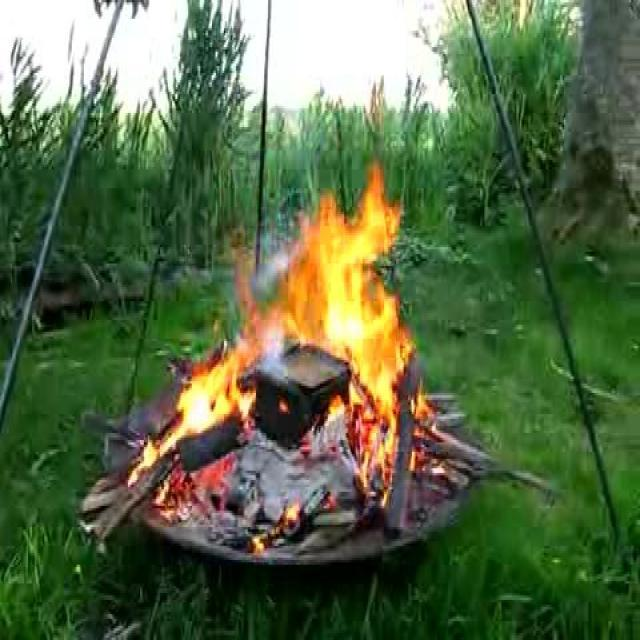Fire: (298, 197, 396, 416), (176, 354, 250, 431)
